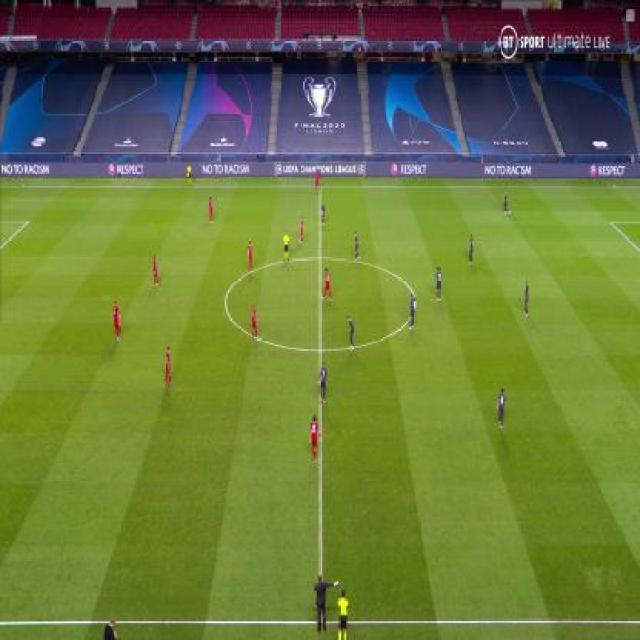player: (312, 570, 338, 636), (336, 587, 350, 640), (309, 416, 320, 465), (317, 362, 328, 408), (496, 386, 507, 431), (112, 299, 123, 344), (102, 616, 121, 639), (407, 287, 416, 332), (164, 345, 173, 387), (322, 268, 333, 302), (250, 303, 259, 342), (347, 313, 356, 352), (522, 279, 530, 318), (282, 230, 291, 264), (434, 265, 442, 301), (246, 239, 254, 275), (152, 253, 160, 289), (467, 232, 475, 265), (352, 230, 360, 263), (297, 214, 305, 245), (207, 195, 215, 226), (314, 167, 322, 196), (502, 189, 510, 217), (185, 162, 193, 187), (320, 203, 326, 226)
